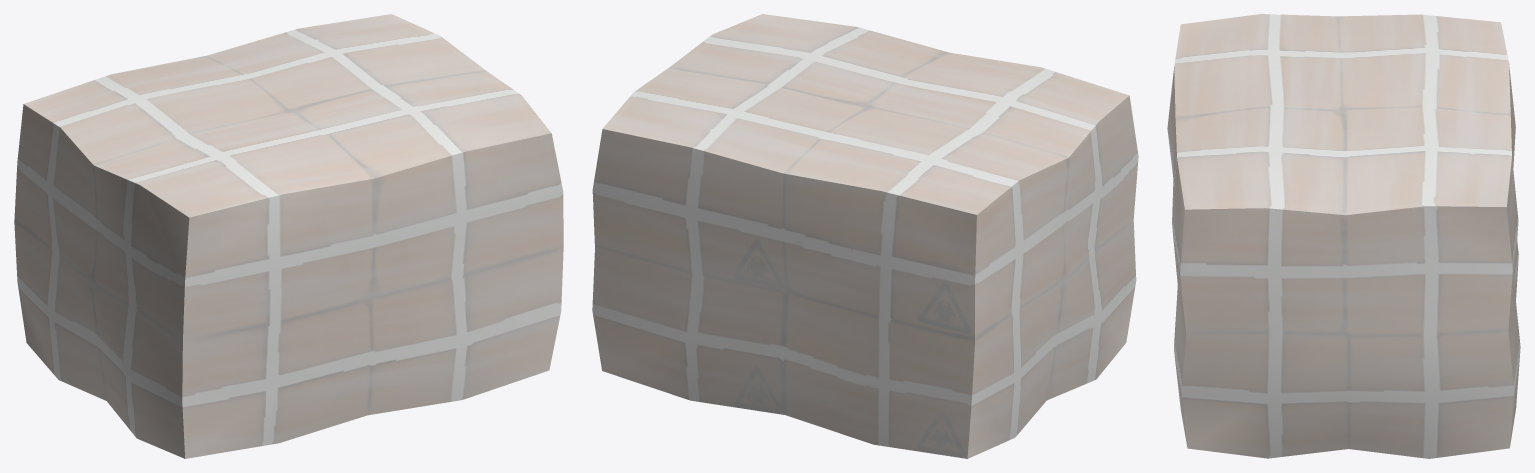
The model's file is Pfb_BoxGroup__4.fbx.
3 views of the same model, side by side, from view 1: azimuth 30°, elevation 25°; view 2: azimuth 150°, elevation 25°; view 3: azimuth 270°, elevation 25° (orthographic).
Parts seen in each view (by area): view 1: Mat_BoxGroup_02_Blue; view 2: Mat_BoxGroup_02_Blue; view 3: Mat_BoxGroup_02_Blue.
Boxes of the visible parts, x1,y1,x2,y2 form: Mat_BoxGroup_02_Blue: (14, 14, 563, 458); Mat_BoxGroup_02_Blue: (592, 14, 1138, 458); Mat_BoxGroup_02_Blue: (1167, 14, 1520, 458).
Bounding box in the file's own units: 2.01 × 1.28 × 1.53.
Materials: 1 (1 with a texture image).
